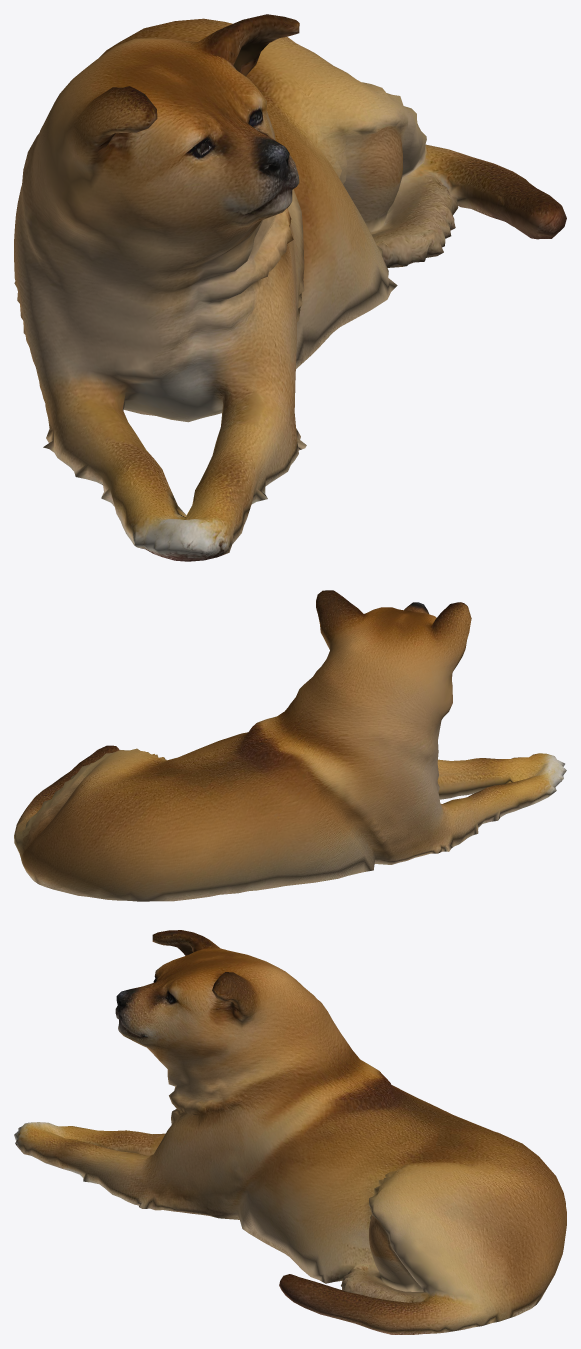
The model's file is golden-dog.glb.
3 renders of one model, top to bottom at view 1: azimuth 30°, elevation 25°; view 2: azimuth 150°, elevation 25°; view 3: azimuth 270°, elevation 25°, orthographic. The views are drawn at different scales.
Parts seen in each view (by area): view 1: Golden Fluff Guardian; view 2: Golden Fluff Guardian; view 3: Golden Fluff Guardian.
Boxes of the visible parts, box(x1,y1,x2,y2) form: Golden Fluff Guardian: box(14, 14, 566, 561); Golden Fluff Guardian: box(14, 590, 566, 901); Golden Fluff Guardian: box(14, 930, 566, 1334).
Bounding box in the file's own units: 0.8574 × 0.4941 × 0.998.
1 material, 1 textured.
